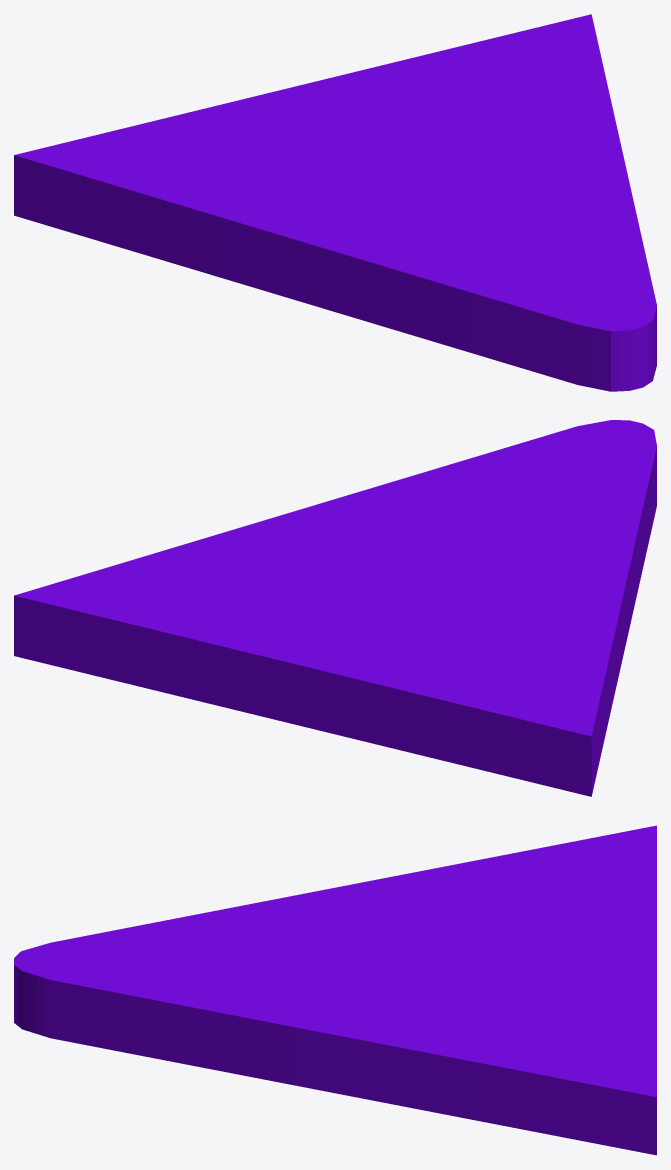
File: Triangle_Side.fbx
The picture shows the model from 3 angles, top to bottom: view 1: azimuth 30°, elevation 25°; view 2: azimuth 150°, elevation 25°; view 3: azimuth 270°, elevation 25°; orthographic projection. The views are drawn at different scales.
Visible parts, largest first — view 1: triangle side; view 2: triangle side; view 3: triangle side.
Part boxes in pixels (left/top/right/bottom): triangle side: left=14, top=14, right=656, bottom=391; triangle side: left=14, top=420, right=656, bottom=796; triangle side: left=14, top=825, right=656, bottom=1155.
Bounding box in the file's own units: 178 × 17.81 × 178.
